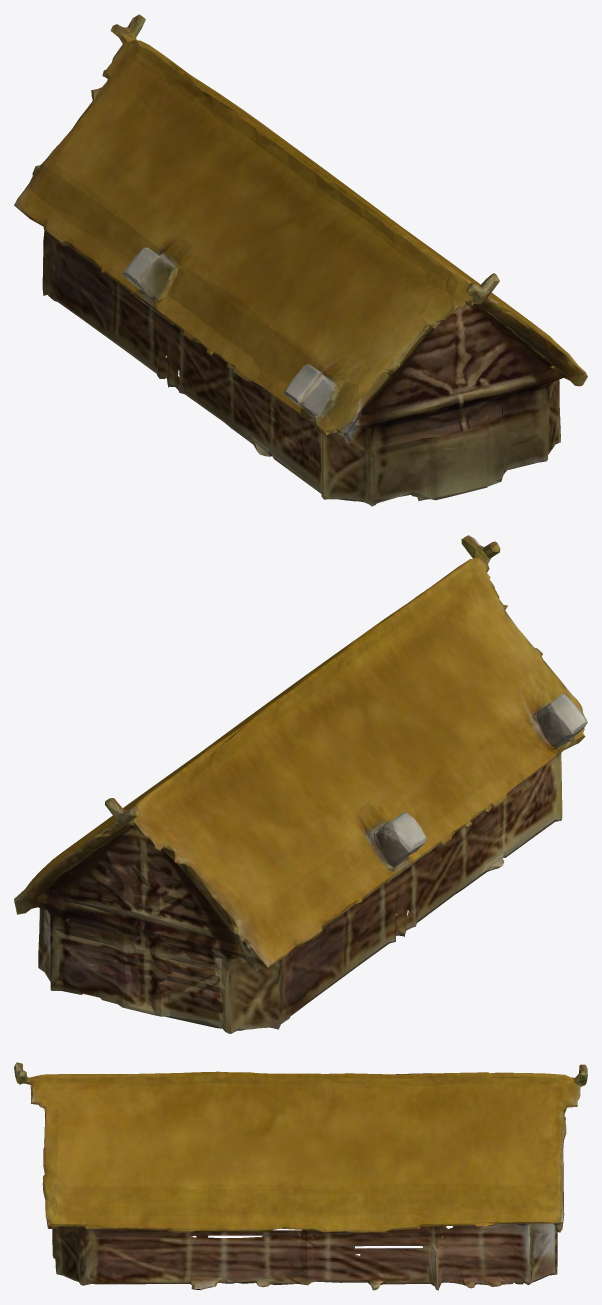
The model's file is hut_long_thatch_lod0.glb.
The picture shows the model from 3 angles, top to bottom: view 1: azimuth 30°, elevation 25°; view 2: azimuth 150°, elevation 25°; view 3: azimuth 270°, elevation 25°; orthographic projection. The views are drawn at different scales.
Parts seen in each view (by area): view 1: hut_long_thatch_lod0; view 2: hut_long_thatch_lod0; view 3: hut_long_thatch_lod0.
Part boxes in pixels (left/top/right/bottom): hut_long_thatch_lod0: left=14, top=14, right=587, bottom=506; hut_long_thatch_lod0: left=14, top=535, right=587, bottom=1033; hut_long_thatch_lod0: left=14, top=1062, right=587, bottom=1290.
Bounding box in the file's own units: 2.63 × 2.12 × 6.
Materials: 1 (1 with a texture image).
